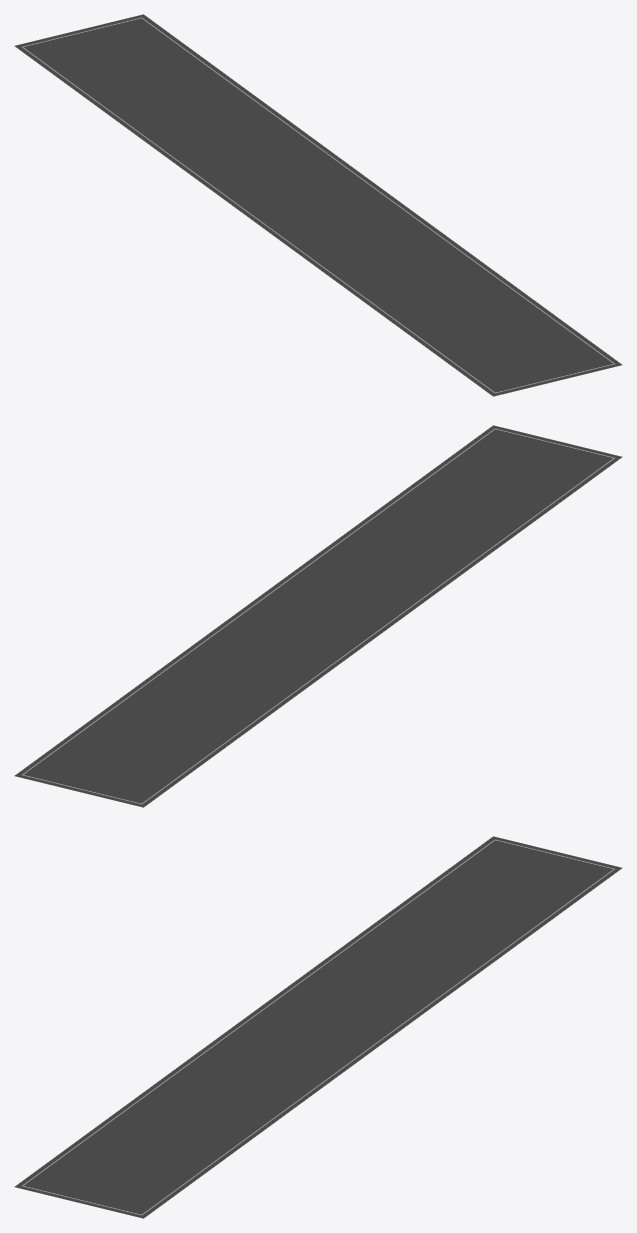
File: M_H_rug_02.fbx
3 renders of one model, top to bottom at view 1: azimuth 30°, elevation 25°; view 2: azimuth 150°, elevation 25°; view 3: azimuth 330°, elevation 25°, orthographic.
Visible parts, largest first — view 1: M_H_rug_02; view 2: M_H_rug_02; view 3: M_H_rug_02.
Part boxes in pixels (x1,y1,x2,y2): M_H_rug_02: (14, 14, 622, 396); M_H_rug_02: (14, 425, 622, 807); M_H_rug_02: (14, 836, 622, 1218).
Size of the model in its own units: 250 by 4.58e-05 by 1600.
